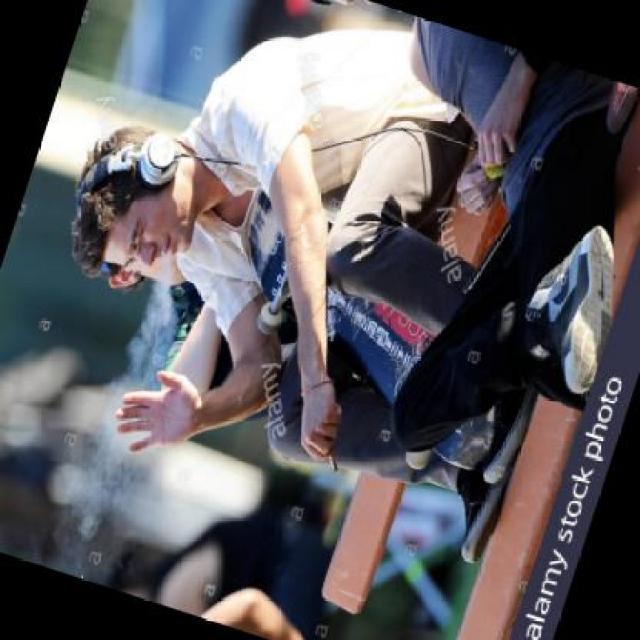smoke: (320, 447, 345, 473)
